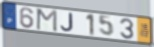1: (85, 14, 96, 37)
3: (119, 18, 136, 40)
5: (98, 14, 116, 39)
6: (18, 7, 34, 29)
J: (60, 12, 75, 33)
M: (35, 8, 58, 33)
